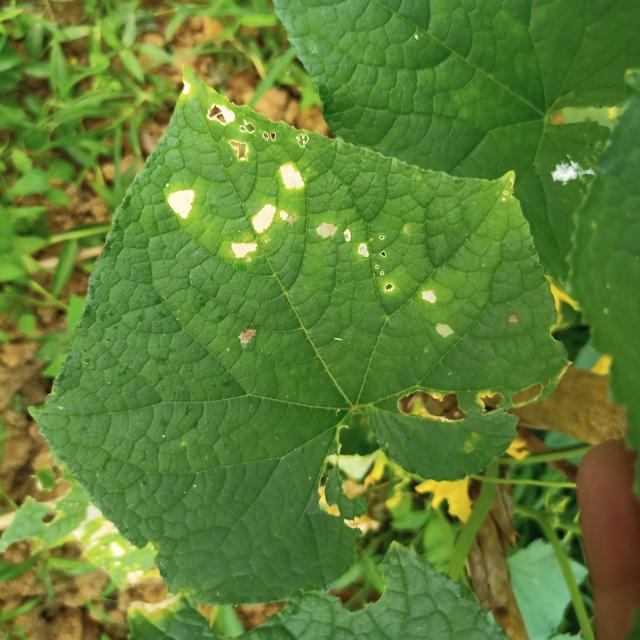disease_cucumber: (166, 80, 473, 354)
